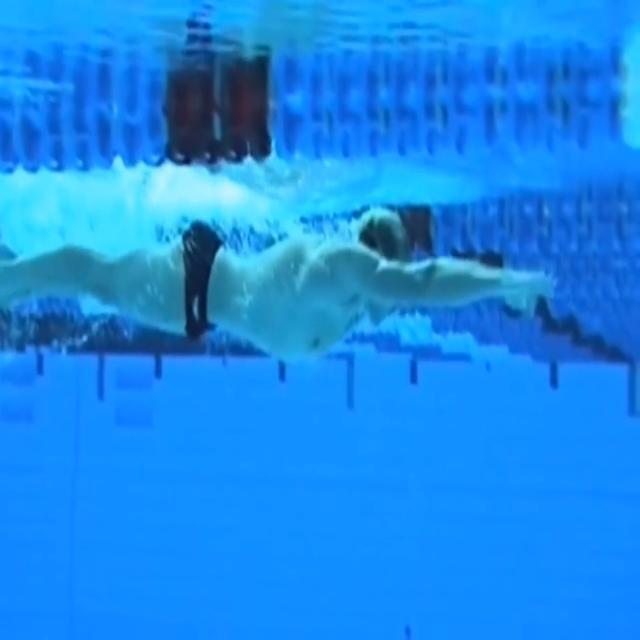Swimming: (0, 205, 556, 362)
